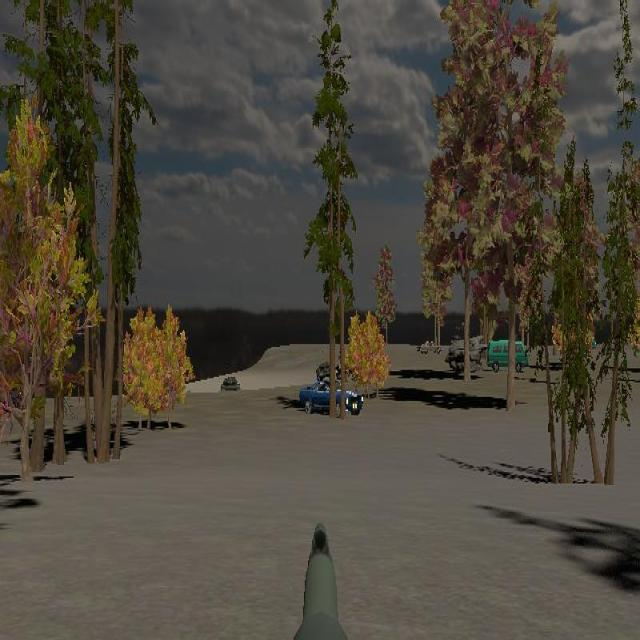car: (298, 378, 364, 416), (488, 338, 527, 373)
